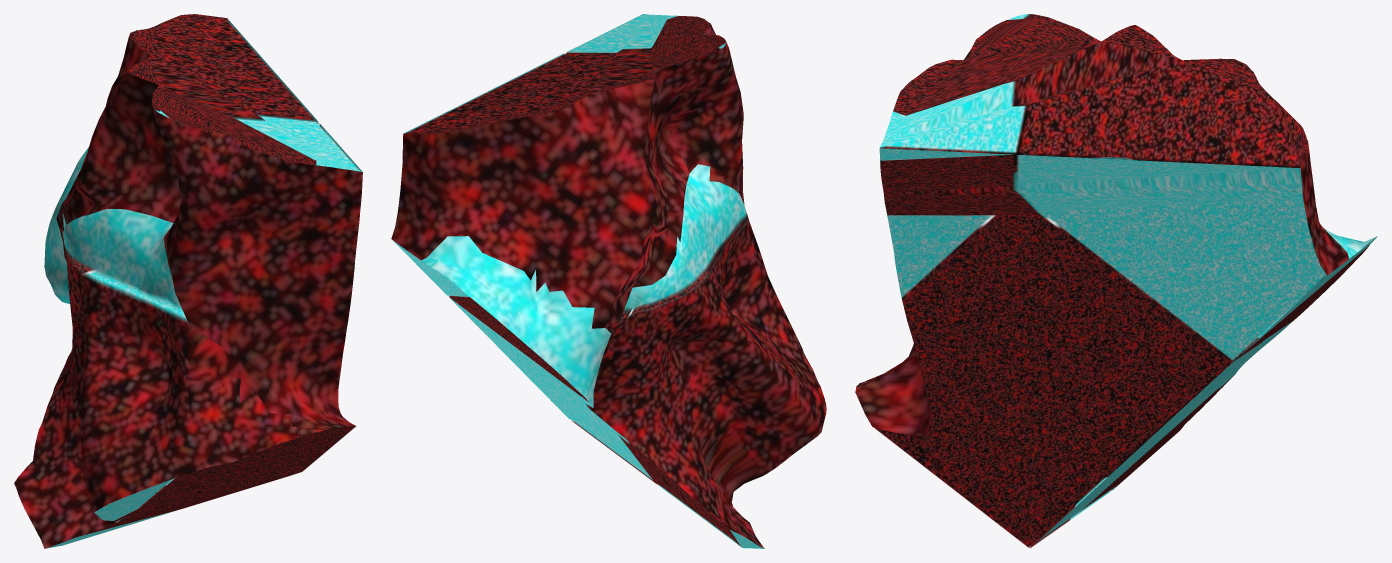
3 views of the same model, side by side, from view 1: azimuth 30°, elevation 25°; view 2: azimuth 150°, elevation 25°; view 3: azimuth 270°, elevation 25° (orthographic). The views are drawn at different scales.
Parts seen in each view (by area): view 1: SM_VFX_Withered_Spike_02_LOD0; view 2: SM_VFX_Withered_Spike_02_LOD0; view 3: SM_VFX_Withered_Spike_02_LOD0.
Boxes of the visible parts, left/top/right/bottom form: SM_VFX_Withered_Spike_02_LOD0: left=14, top=14, right=362, bottom=548; SM_VFX_Withered_Spike_02_LOD0: left=391, top=14, right=826, bottom=548; SM_VFX_Withered_Spike_02_LOD0: left=855, top=14, right=1377, bottom=548.
Size of the model in its own units: 5.09 by 8.05 by 7.48.
1 material, 1 textured.
